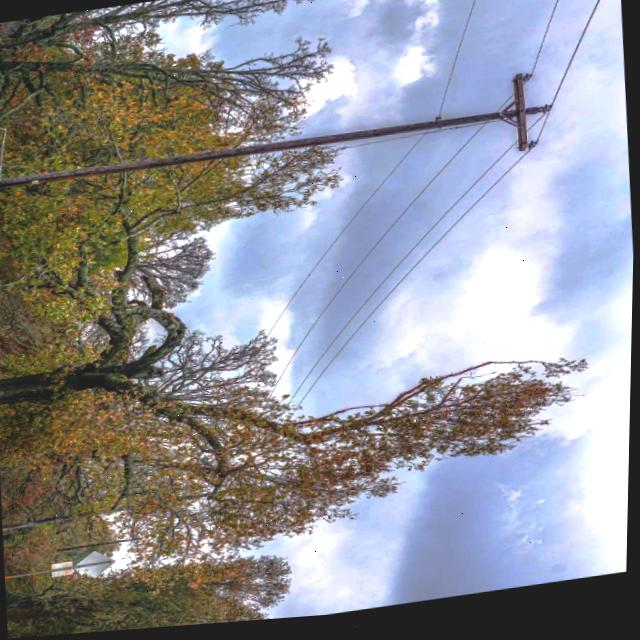obstruction: (233, 334, 331, 432)
poles: (2, 81, 551, 185)
wires: (295, 131, 546, 408), (272, 129, 494, 384), (551, 0, 606, 115), (441, 0, 483, 115), (530, 0, 565, 87)
